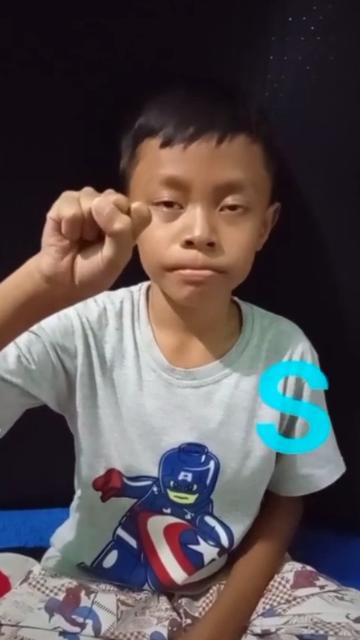S: (44, 185, 152, 302)
